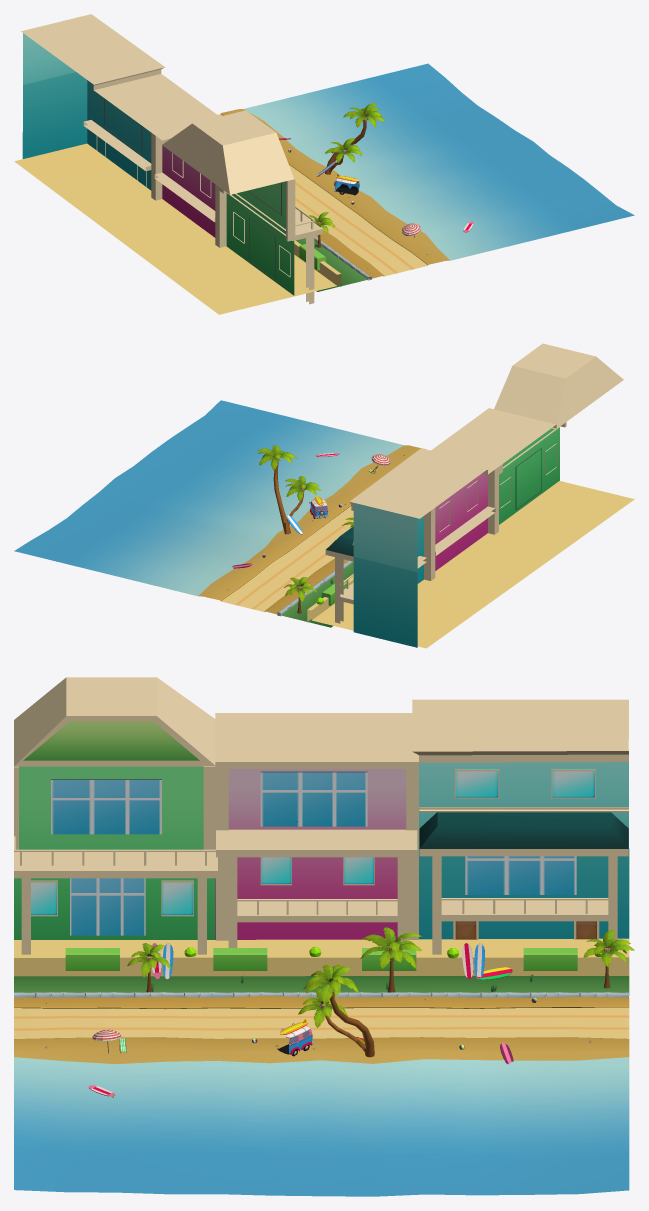
3 views of the same model, one above another, from view 1: azimuth 30°, elevation 25°; view 2: azimuth 150°, elevation 25°; view 3: azimuth 270°, elevation 25° (orthographic). The views are drawn at different scales.
Visible parts, largest first — view 1: Patch1, Patch1_road; view 2: Patch1, Patch1_road; view 3: Patch1, Patch1_road.
Part boxes in pixels (x1,y1,x2,y2): Patch1: (14, 14, 634, 314); Patch1_road: (218, 114, 427, 276); Patch1: (14, 343, 634, 648); Patch1_road: (221, 506, 353, 612); Patch1: (14, 677, 634, 1196); Patch1_road: (14, 1007, 629, 1038).
Size of the model in its own units: 2743 by 1034 by 2376.
